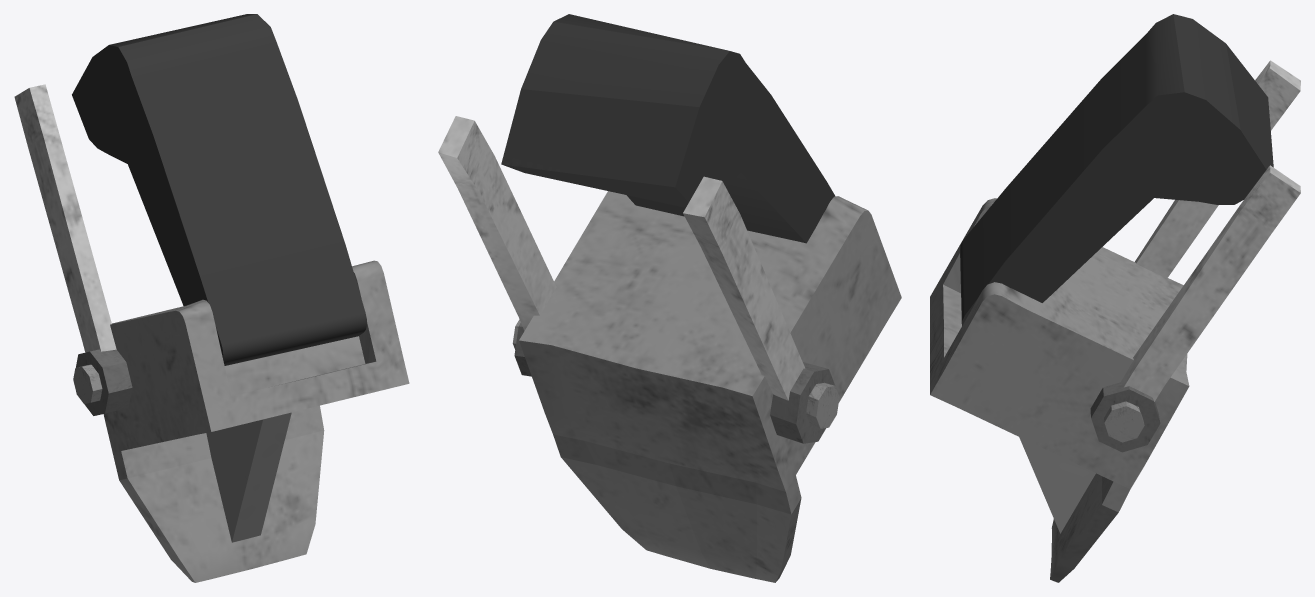
The model's file is jxb_1.fbx.
The picture shows the model from 3 angles, left to right: view 1: azimuth 30°, elevation 25°; view 2: azimuth 150°, elevation 25°; view 3: azimuth 270°, elevation 25°; orthographic projection. The views are drawn at different scales.
Parts seen in each view (by area): view 1: polySurface231; view 2: polySurface231; view 3: polySurface231.
Boxes of the visible parts, bbox=[...] form: polySurface231: bbox=[14, 14, 409, 582]; polySurface231: bbox=[438, 14, 901, 582]; polySurface231: bbox=[930, 14, 1300, 582].
Bounding box in the file's own units: 0.8653 × 1.6 × 1.06.
Materials: 1 (1 with a texture image).
